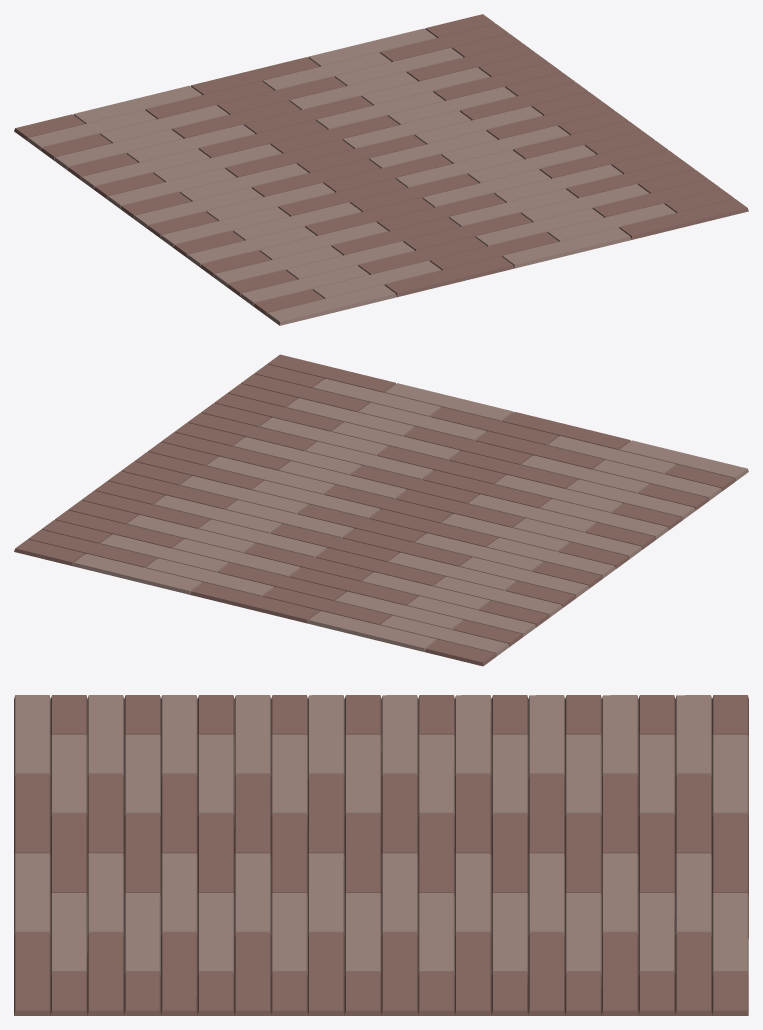
File: Floor1.fbx
The picture shows the model from 3 angles, top to bottom: view 1: azimuth 30°, elevation 25°; view 2: azimuth 150°, elevation 25°; view 3: azimuth 270°, elevation 25°; orthographic projection. The views are drawn at different scales.
Parts seen in each view (by area): view 1: Floor1; view 2: Floor1; view 3: Floor1.
Boxes of the visible parts, left/top/right/bottom form: Floor1: left=14, top=14, right=748, bottom=325; Floor1: left=14, top=354, right=748, bottom=666; Floor1: left=14, top=695, right=748, bottom=1015.
Bounding box in the file's own units: 249 × 1.74 × 245.
